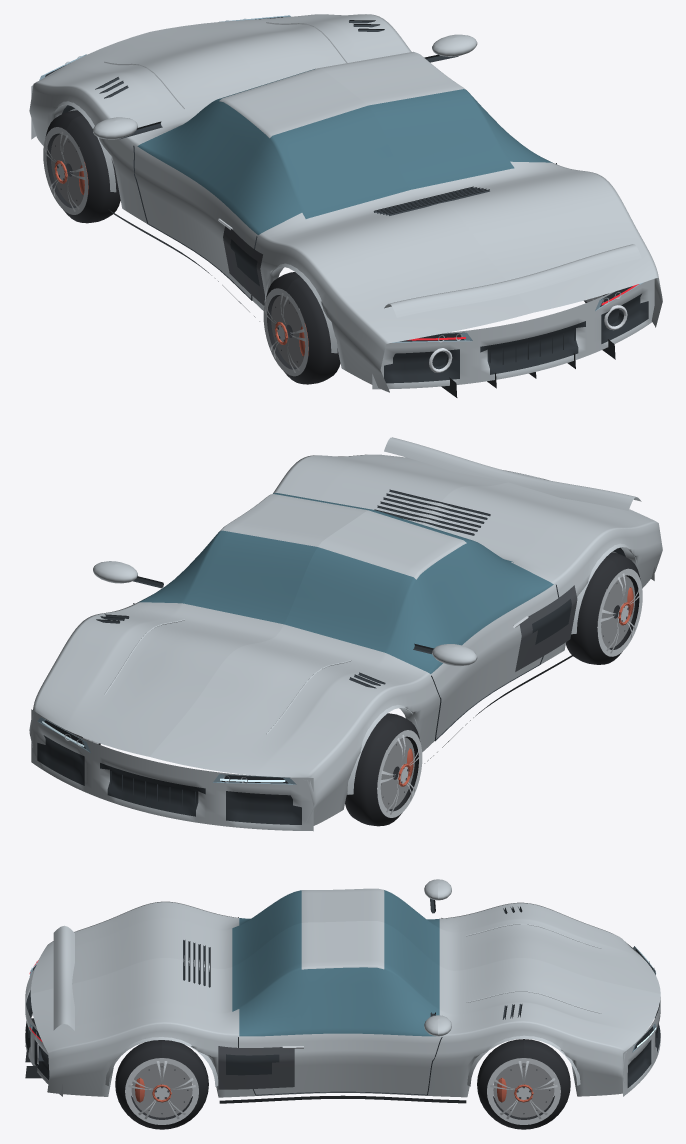
The model's file is cyclone_rs_medium.glb.
3 views of the same model, one above another, from view 1: azimuth 30°, elevation 25°; view 2: azimuth 150°, elevation 25°; view 3: azimuth 270°, elevation 25° (orthographic). The views are drawn at different scales.
Parts seen in each view (by area): view 1: Body, Wheel_0, Wheel_2; view 2: Body, Wheel_0, Wheel_2; view 3: Body, Wheel_1, Wheel_3.
Part boxes in pixels (x1=…): Body: x1=29, y1=14, x2=662, y2=397; Wheel_0: x1=43, y1=110, x2=120, y2=223; Wheel_2: x1=263, y1=272, x2=340, y2=384; Body: x1=29, y1=437, x2=662, y2=831; Wheel_0: x1=345, y1=713, x2=422, y2=826; Wheel_2: x1=566, y1=552, x2=642, y2=664; Body: x1=25, y1=879, x2=660, y2=1103; Wheel_1: x1=477, y1=1039, x2=570, y2=1129; Wheel_3: x1=115, y1=1040, x2=208, y2=1129.
Size of the model in its own units: 2.7 by 1.2 by 4.91.
